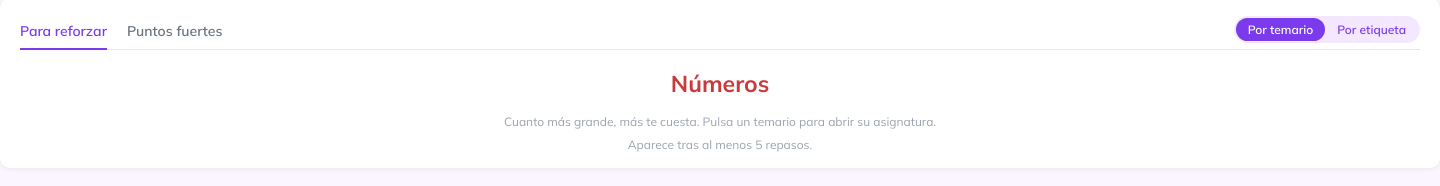
Test case: MasteryClouds › agrupación por etiqueta › usa textos propios de las etiquetas
The width and height of the screenshot is (1440, 186).
Step 1. Click the button "Por etiqueta" → (1372,30), box [1325, 18, 1418, 41]
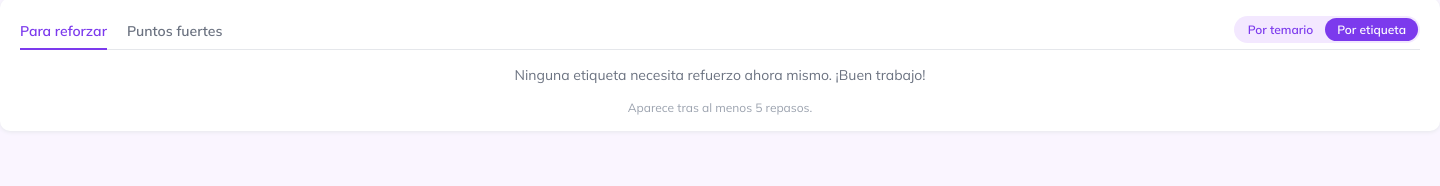
Expected: the text "Ninguna etiqueta necesita refuerzo" is shown, [514, 66, 926, 84]
